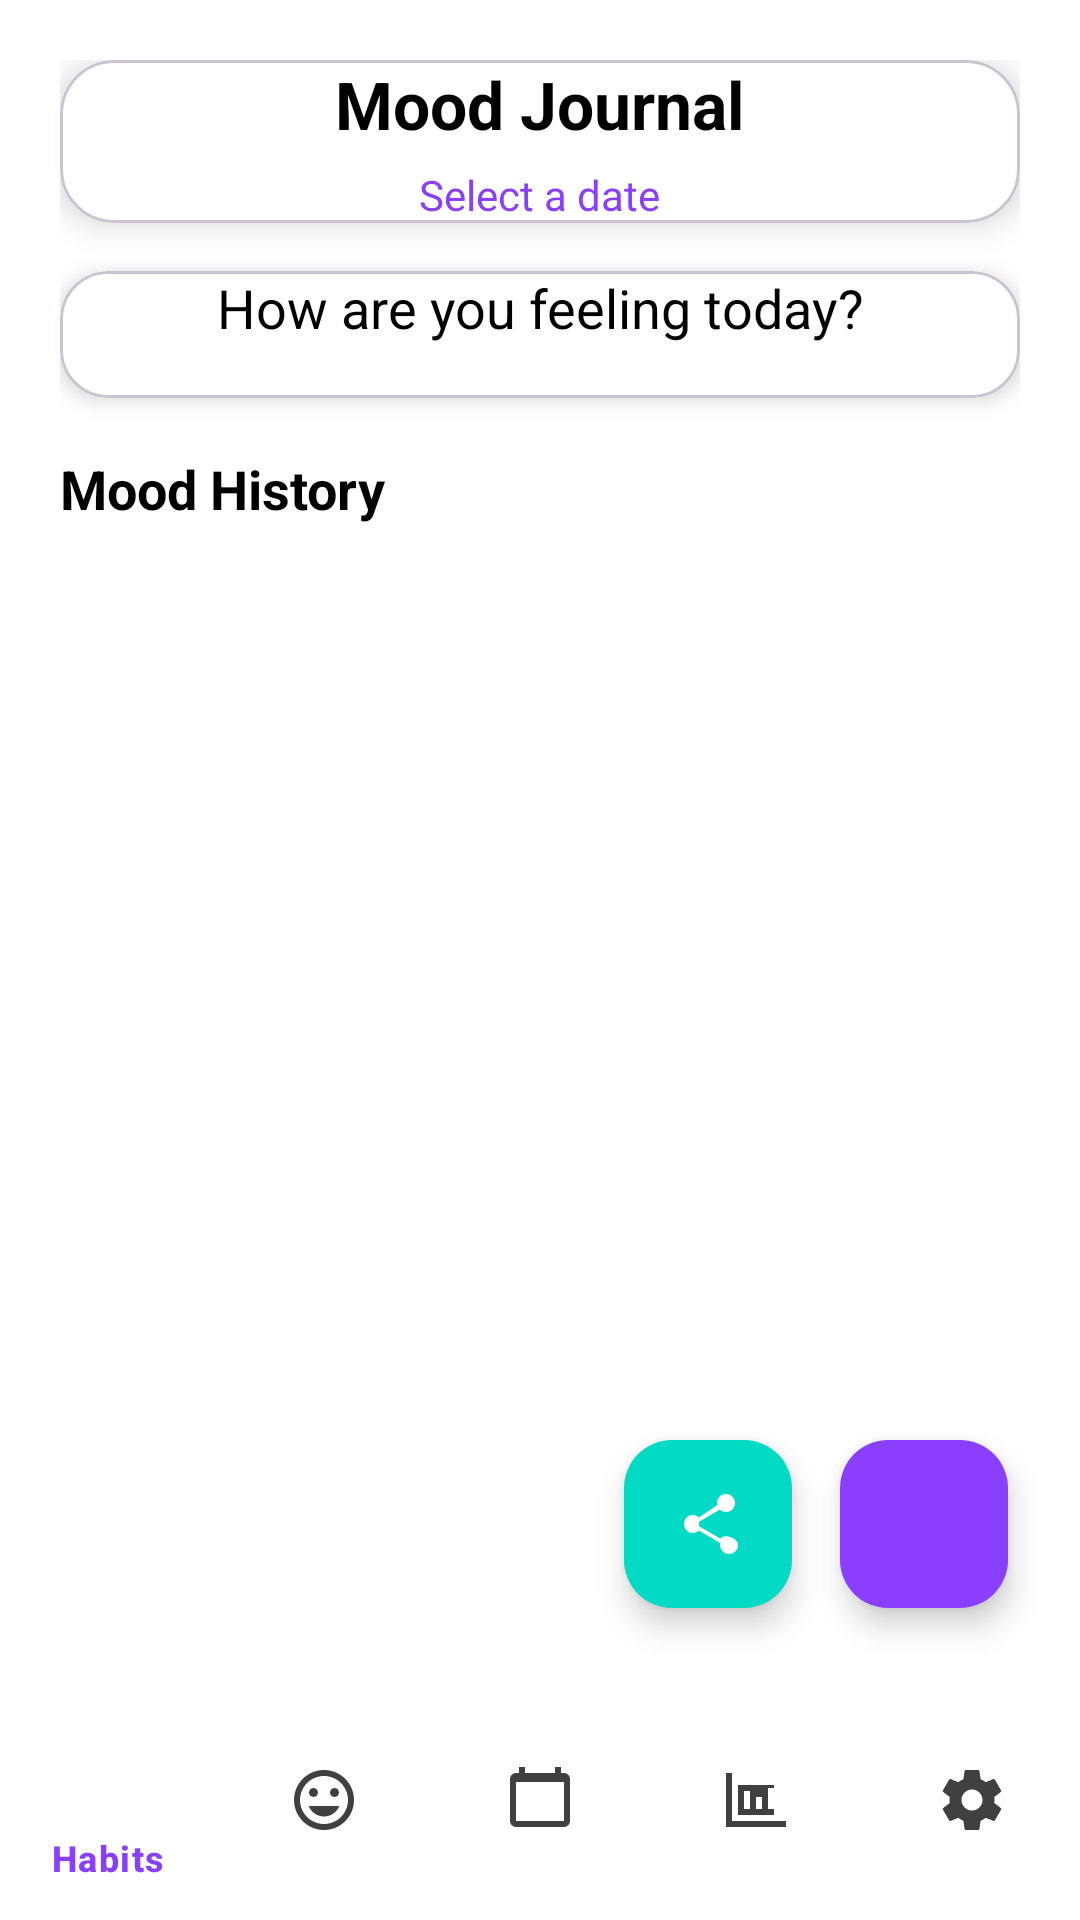

Named icons in this screenshot (1080x1920) and their bounding boxes, (x1, y1, x2, y2):
Share mood summary: (624, 1440, 792, 1608)
